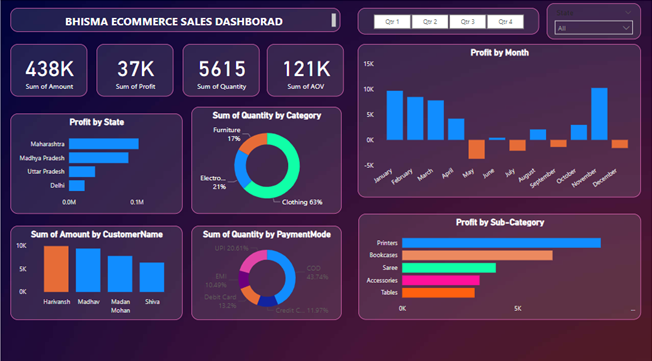

The dashboard page shown, as its layout file describes it:
{"tool":"powerbi","page":{"name":"Page 1","canvas":[1280,720],"ordinal":0},"visuals":[{"type":"textbox","box":[20.2,16.8,648.4,47],"z":0},{"type":"columnChart","title":"Profit by Month","fields":{"Category":["Orders.Order Date.Variation.Date Hierarchy.Month"],"Y":["Details.Profit"]},"box":[702.2,87.3,556,300.7],"z":1000},{"type":"donutChart","fields":{"Category":["Details.Category"],"Y":["Details.Quantity"]},"box":[375.1,211.3,294.6,209.8],"z":2000},{"type":"donutChart","fields":{"Y":["Details.Quantity"],"Series":["Details.PaymentMode"]},"box":[375.1,444.1,294.6,185.4],"z":3000},{"type":"card","fields":{"Values":["Details.Amount"]},"box":[20.1,87.7,150.9,103.5],"z":4000},{"type":"card","fields":{"Values":["Details.Profit"]},"box":[188.3,87.7,150.9,103.5],"z":5000},{"type":"card","fields":{"Values":["Details.Quantity"]},"box":[357.8,87.7,150.9,103.5],"z":6000},{"type":"card","fields":{"Values":["Details.AOV"]},"box":[523.1,87.7,150.9,103.5],"z":7000},{"type":"barChart","title":"Profit by Sub-Category","fields":{"Category":["Details.Sub-Category"],"Y":["Details.Profit"]},"box":[702.8,421.1,554.7,208.4],"z":8000},{"type":"barChart","title":"Profit by State","fields":{"Category":["Orders.State"],"Y":["Details.Amount"]},"box":[20.1,224.2,337.7,196.9],"z":9000},{"type":"columnChart","fields":{"Category":["Orders.CustomerName"],"Y":["Details.Amount"]},"box":[20,444,338,185],"z":10000},{"type":"slicer","fields":{"Values":["Orders.Order Date.Variation.Date Hierarchy.Quarter"]},"box":[702.2,16.8,356.1,52.1],"z":11000},{"type":"slicer","fields":{"Values":["Orders.State"]},"box":[1073.4,8.4,184.8,70.6],"z":11001}]}

Visuals, with their boxes in screenshot pixels (x1, y1, x2, y2), scaled from the page's 1280x720 canvas onto the 652x361 screenshot:
textbox: [x1=10, y1=8, x2=341, y2=32]
"Profit by Month" columnChart: [x1=358, y1=44, x2=641, y2=195]
donutChart - Details.Category x Details.Quantity: [x1=191, y1=106, x2=341, y2=211]
donutChart - Details.Quantity x Details.PaymentMode: [x1=191, y1=223, x2=341, y2=316]
card - Details.Amount: [x1=10, y1=44, x2=87, y2=96]
card - Details.Profit: [x1=96, y1=44, x2=173, y2=96]
card - Details.Quantity: [x1=182, y1=44, x2=259, y2=96]
card - Details.AOV: [x1=266, y1=44, x2=343, y2=96]
"Profit by Sub-Category" barChart: [x1=358, y1=211, x2=641, y2=316]
"Profit by State" barChart: [x1=10, y1=112, x2=182, y2=211]
columnChart - Orders.CustomerName x Details.Amount: [x1=10, y1=223, x2=182, y2=315]
slicer - Orders.Order Date.Variation.Date Hierarchy.Quarter: [x1=358, y1=8, x2=539, y2=35]
slicer - Orders.State: [x1=547, y1=4, x2=641, y2=40]
